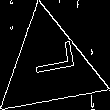L_W: (23, 46, 76, 87)
